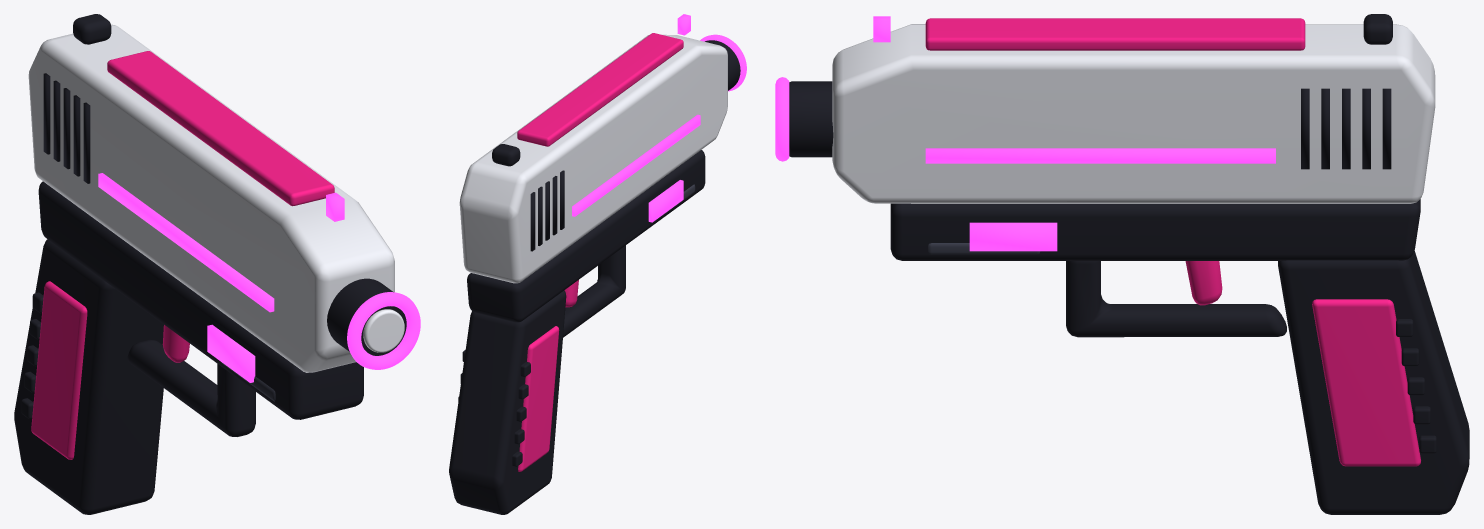
File: Blaster.fbx
3 renders of one model, left to right at view 1: azimuth 30°, elevation 25°; view 2: azimuth 150°, elevation 25°; view 3: azimuth 270°, elevation 25°, orthographic. The views are drawn at different scales.
Visible parts, largest first — view 1: Blaster_Pro_Plastic_Dark, Blaster_Pro_Plastic_White, Blaster_Pro_Plastic_Pink, Blaster_Pro_Glow_pink_12, Blaster_Pro_Glow_white_12; view 2: Blaster_Pro_Plastic_Dark, Blaster_Pro_Plastic_White, Blaster_Pro_Plastic_Pink, Blaster_Pro_Glow_pink_12; view 3: Blaster_Pro_Plastic_White, Blaster_Pro_Plastic_Dark, Blaster_Pro_Plastic_Pink, Blaster_Pro_Glow_pink_12, Blaster_Pro_Plastic_Grey.
Boxes of the visible parts, box(x1,y1,x2,y2) form: Blaster_Pro_Plastic_Dark: box(14, 14, 406, 514); Blaster_Pro_Plastic_White: box(28, 24, 394, 372); Blaster_Pro_Plastic_Pink: box(31, 51, 334, 459); Blaster_Pro_Glow_pink_12: box(98, 173, 420, 382); Blaster_Pro_Glow_white_12: box(363, 309, 404, 352); Blaster_Pro_Plastic_Dark: box(449, 40, 740, 514); Blaster_Pro_Plastic_White: box(459, 34, 727, 283); Blaster_Pro_Plastic_Pink: box(517, 33, 683, 471); Blaster_Pro_Glow_pink_12: box(572, 14, 746, 222); Blaster_Pro_Plastic_White: box(832, 24, 1435, 203); Blaster_Pro_Plastic_Dark: box(789, 14, 1469, 514); Blaster_Pro_Plastic_Pink: box(925, 18, 1420, 466); Blaster_Pro_Glow_pink_12: box(775, 16, 1275, 251); Blaster_Pro_Plastic_Grey: box(928, 243, 1040, 254).
Size of the model in its own units: 0.0568 by 0.2912 by 0.3804.
